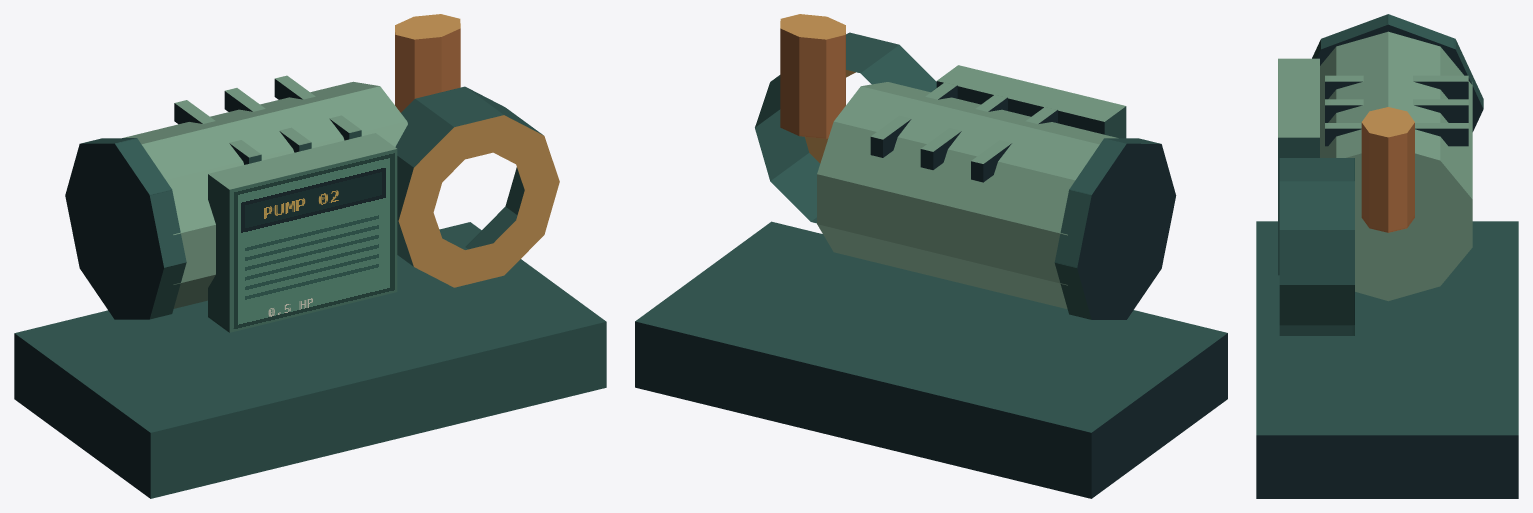
Rendered from bomba_recirculacion.glb.
3 views of the same model, side by side, from view 1: azimuth 30°, elevation 25°; view 2: azimuth 150°, elevation 25°; view 3: azimuth 270°, elevation 25° (orthographic). The views are drawn at different scales.
Parts seen in each view (by area): view 1: CALDERA_PROPS; view 2: CALDERA_PROPS; view 3: CALDERA_PROPS.
Boxes of the visible parts, x1=… form: CALDERA_PROPS: x1=14, y1=14, x2=606, y2=498; CALDERA_PROPS: x1=635, y1=14, x2=1227, y2=498; CALDERA_PROPS: x1=1256, y1=14, x2=1518, y2=498.
Size of the model in its own units: 0.6934 by 0.4907 by 0.3589.
1 material, 1 textured.
